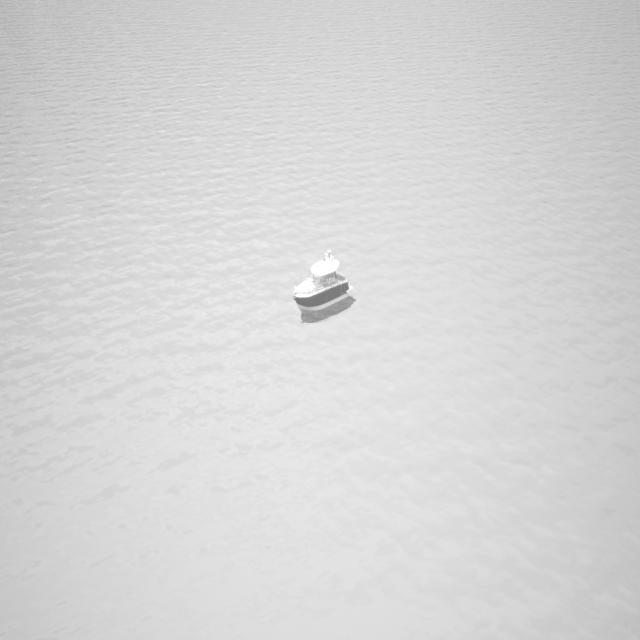ship: (292, 246, 354, 316)
